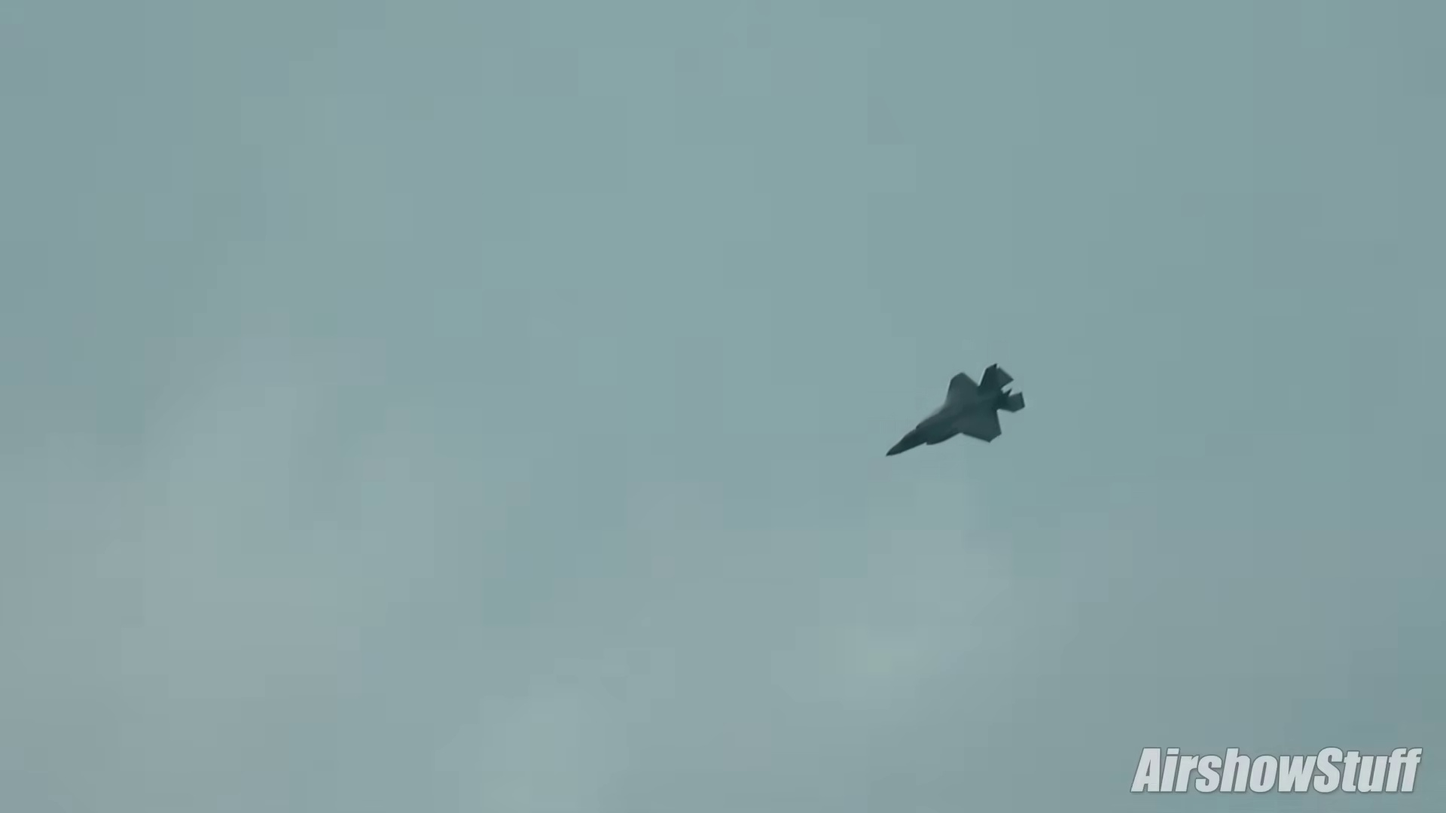F35: (881, 358, 1028, 460)
